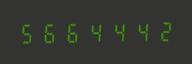five: (17, 21, 38, 45)
four: (105, 19, 126, 43), (127, 19, 148, 43), (83, 20, 104, 43)
six: (39, 20, 60, 44), (61, 20, 82, 44)
two: (149, 19, 170, 42)
